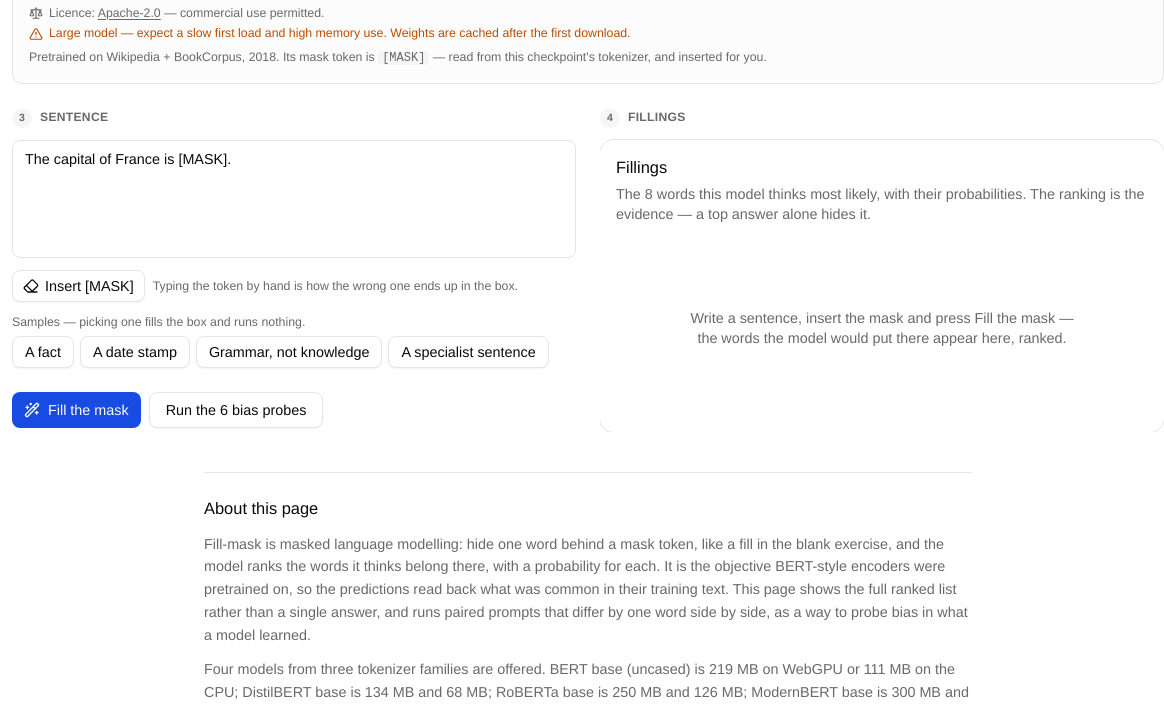
Test: FillMaskPage › runs nothing when a sample is picked — it only fills the box
The width and height of the screenshot is (1164, 706).
(page scrolled)
Click the button "A date stamp" at (135, 352), box x1=80 y1=336 x2=190 y2=368
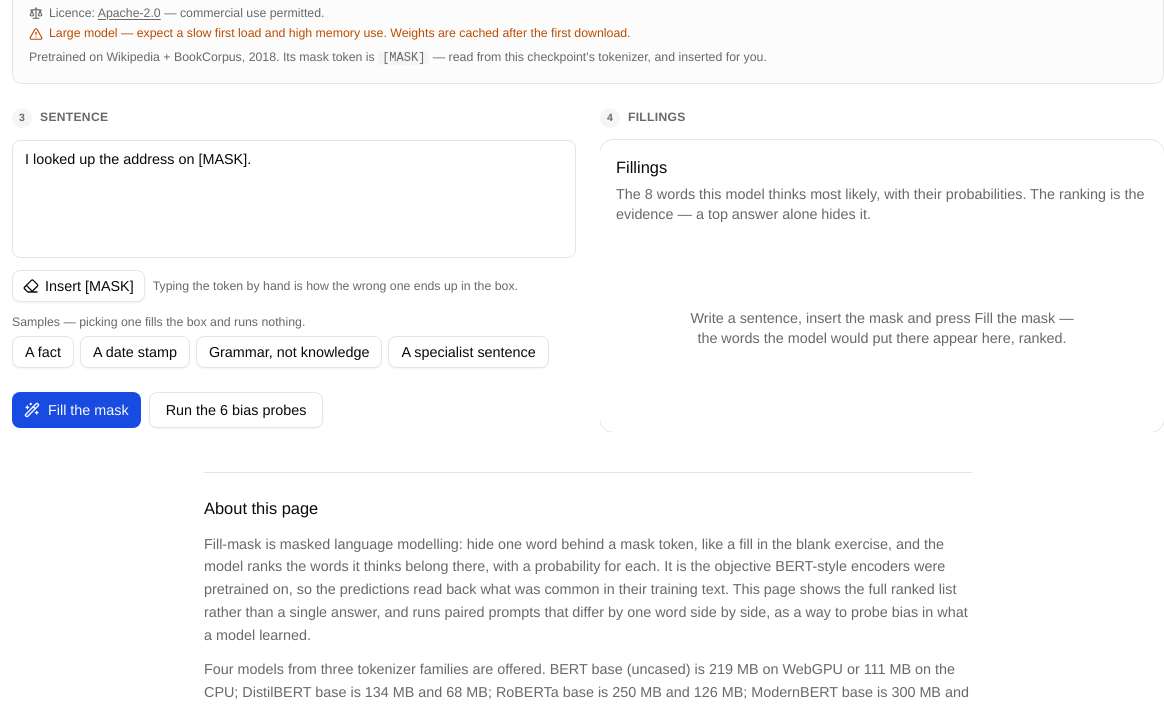
Check: the text with test id "output-empty" is shown, box x1=690 y1=308 x2=1074 y2=346
Check: the text box named "sentence with a mask" holds "I looked up the address on [MASK].", box x1=12 y1=140 x2=576 y2=258
